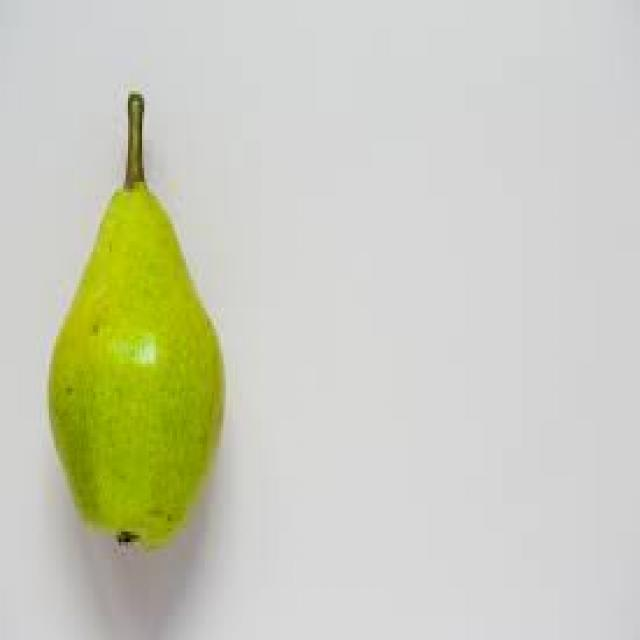pear: (40, 73, 235, 570)
